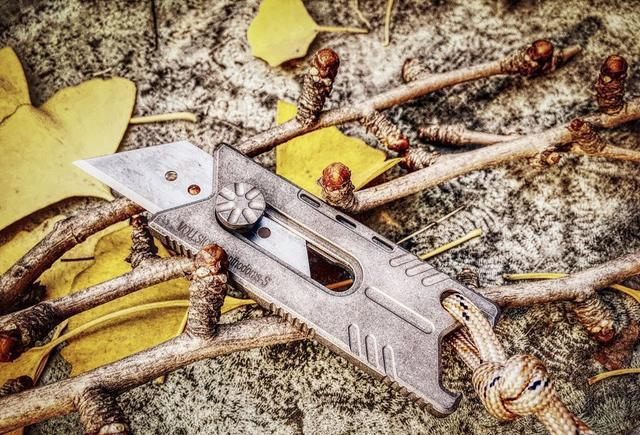cutter: (66, 140, 502, 417)
